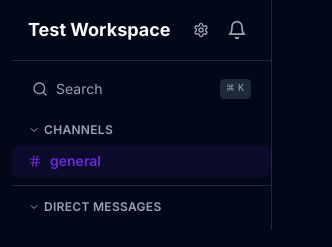
Test case: ChannelSidebar › re-expands the Channels section when header is clicked again
Click the button "Channels" at (70, 130), box [28, 122, 113, 138]
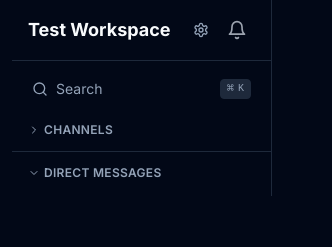
Check: the button "general" is gone
Click the button "Channels" at (70, 130), box [28, 122, 113, 138]
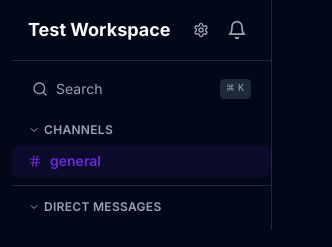
Check: the text "general" is shown, box [50, 151, 101, 171]
